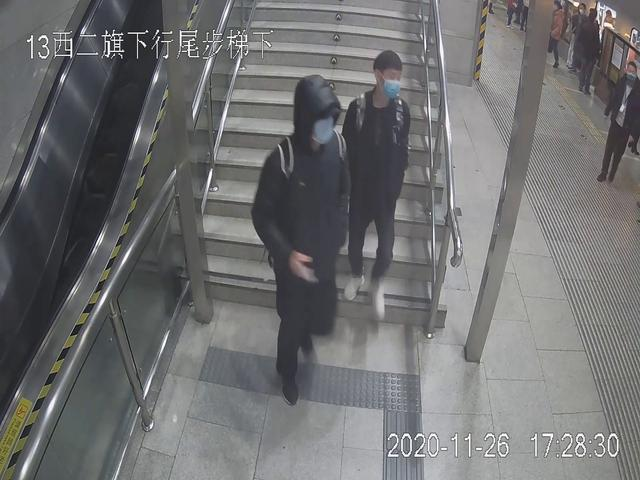person: (244, 68, 352, 404), (346, 49, 410, 318), (593, 63, 638, 184), (575, 5, 605, 97)
